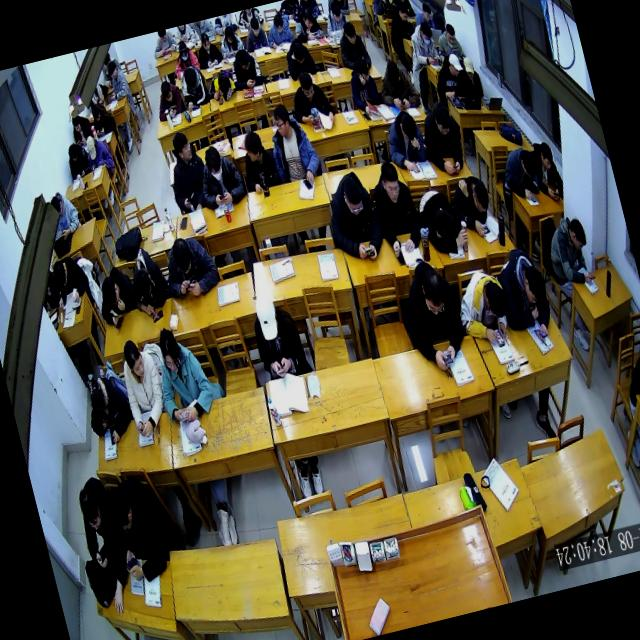bow: (490, 240, 559, 348), (449, 266, 516, 350), (78, 370, 142, 446), (412, 180, 472, 260), (119, 239, 174, 321), (90, 258, 144, 334), (446, 168, 499, 244), (496, 144, 544, 207), (281, 34, 319, 81), (150, 76, 188, 122), (288, 2, 324, 44), (202, 66, 238, 105)
down: (414, 264, 452, 320), (518, 261, 551, 310), (337, 173, 368, 221), (480, 276, 510, 322), (168, 235, 198, 280), (200, 142, 227, 184), (98, 272, 124, 311), (468, 178, 493, 217), (130, 266, 156, 302), (295, 68, 317, 105), (49, 256, 72, 290), (517, 147, 539, 182), (536, 138, 556, 174), (180, 64, 202, 95), (384, 58, 405, 90), (445, 50, 465, 80), (214, 70, 234, 98), (234, 47, 254, 75), (340, 21, 360, 48), (289, 38, 308, 66), (82, 134, 100, 162), (157, 78, 175, 106), (460, 54, 478, 82), (48, 194, 66, 221), (298, 5, 316, 32), (327, 0, 345, 25), (175, 38, 191, 64), (270, 10, 286, 36), (443, 22, 459, 47), (65, 142, 81, 166), (197, 29, 213, 53), (221, 23, 237, 47), (395, 1, 411, 25), (247, 15, 262, 39), (88, 101, 104, 123), (104, 60, 120, 82), (419, 2, 434, 24), (69, 112, 83, 134)
lookup: (376, 158, 406, 208)
sit: (92, 447, 184, 572), (392, 252, 476, 378), (235, 286, 315, 396), (146, 321, 220, 427), (114, 300, 180, 416), (316, 164, 388, 270), (70, 466, 134, 582), (362, 155, 428, 261), (260, 98, 326, 194), (155, 226, 224, 304), (158, 124, 215, 214), (539, 212, 599, 294), (370, 88, 427, 174), (411, 95, 469, 179), (189, 138, 251, 213), (282, 62, 336, 130), (233, 124, 283, 196), (371, 52, 423, 116), (46, 249, 93, 309), (526, 136, 567, 203), (342, 54, 384, 118), (428, 49, 471, 105), (612, 334, 640, 418), (333, 16, 373, 73), (403, 18, 442, 72), (46, 187, 84, 241), (225, 44, 265, 94), (175, 60, 212, 110), (382, 0, 416, 47), (166, 36, 202, 80), (431, 20, 466, 64), (100, 56, 132, 104), (191, 26, 224, 70), (261, 8, 296, 49), (81, 131, 114, 174), (319, 0, 352, 41), (459, 53, 486, 102), (238, 13, 270, 54), (63, 139, 93, 182), (215, 21, 247, 61), (87, 98, 118, 138), (67, 108, 95, 148), (389, 0, 415, 20), (368, 0, 394, 17)
